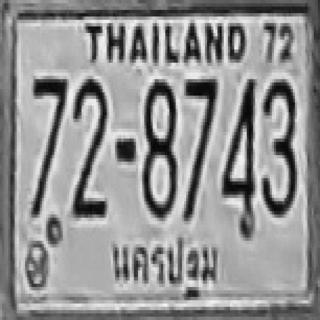N02: (71, 78, 107, 216)
N03: (259, 76, 295, 214)
N04: (220, 76, 255, 218)
N07: (32, 78, 67, 216), (182, 76, 216, 218), (32, 78, 67, 183), (184, 76, 215, 185)
N08: (140, 78, 176, 216)
P28: (106, 225, 229, 302)
